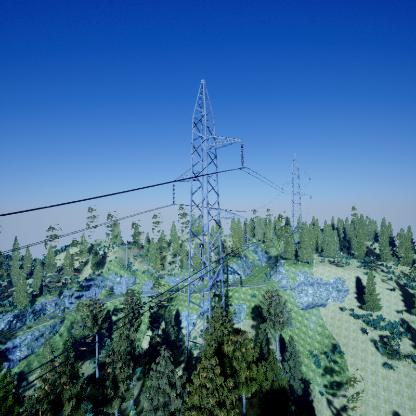tower: (169, 78, 247, 355), (279, 150, 315, 232)
